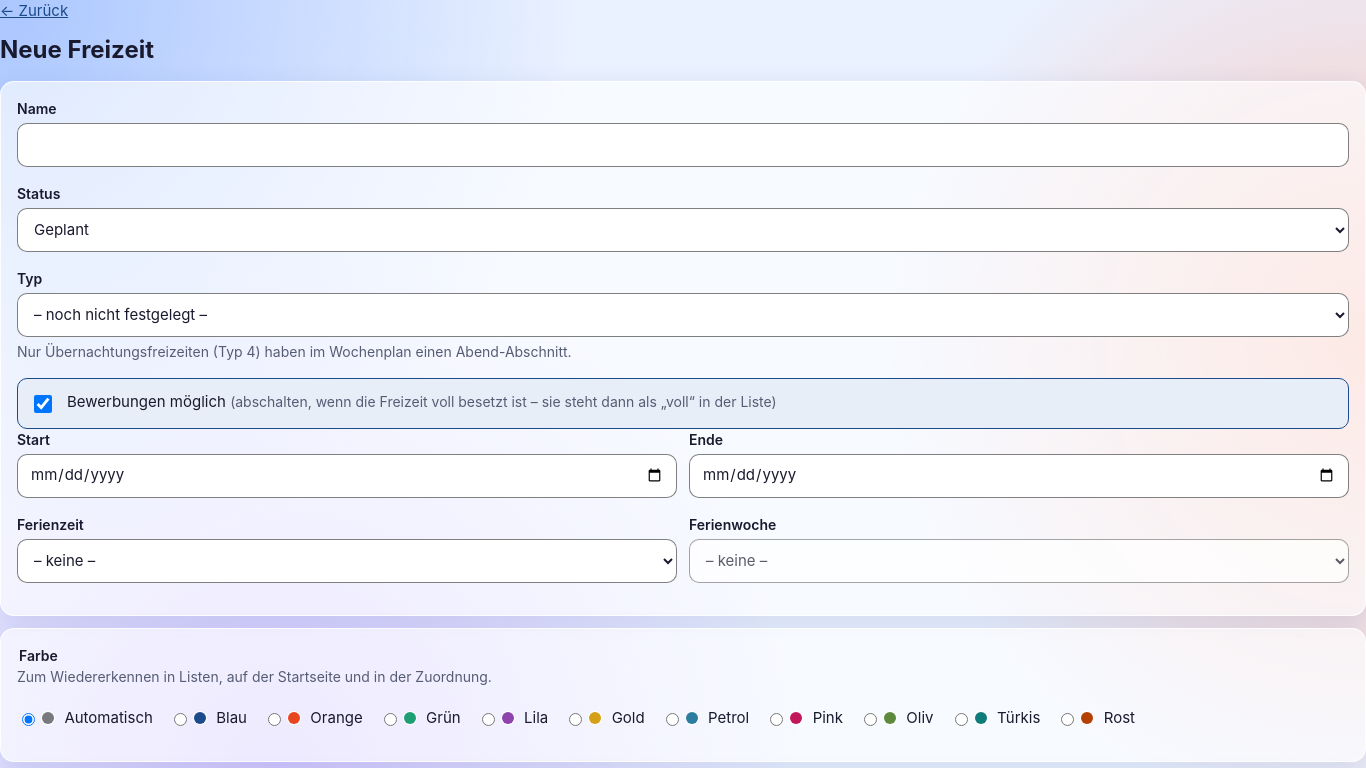
Test: Neue Freizeit › zeigt Serverfehler verständlich
The width and height of the screenshot is (1366, 768).
Type "X" into the field labelled "Name" at (683, 144), box 17,122 -> 1349,166
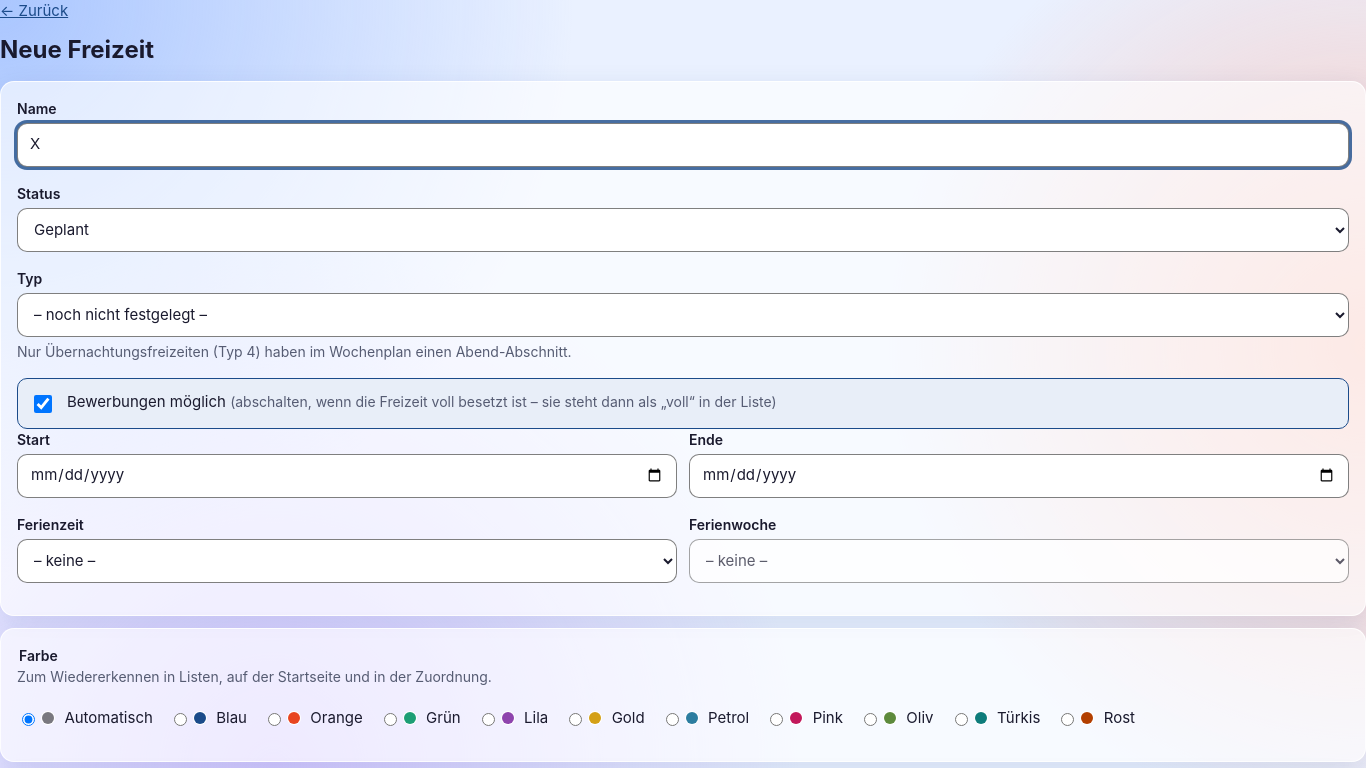
Type "2027-10-11" into the date field labelled "Start" at (347, 476), box 17,454 -> 677,498
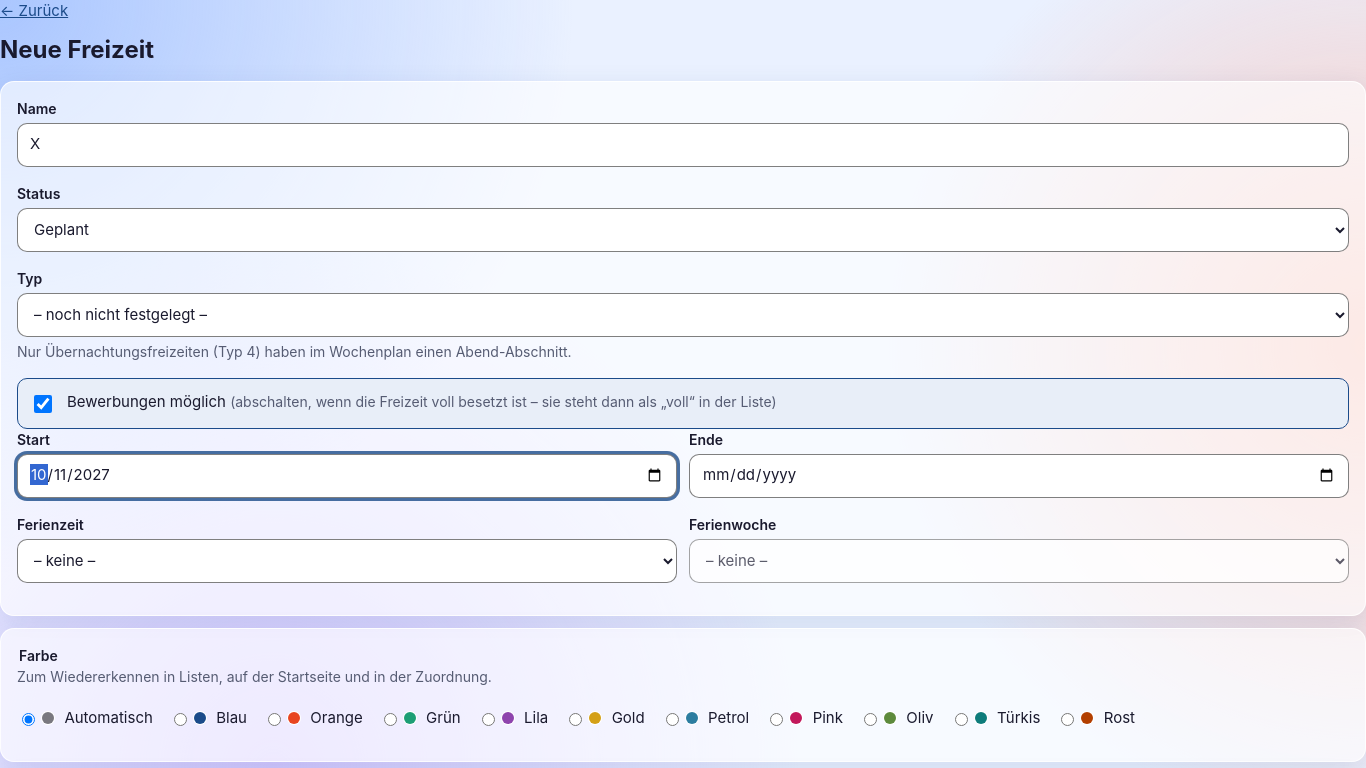
Type "2027-10-15" into the date field labelled "Ende" at (1019, 476), box 689,454 -> 1349,498
(page scrolled)
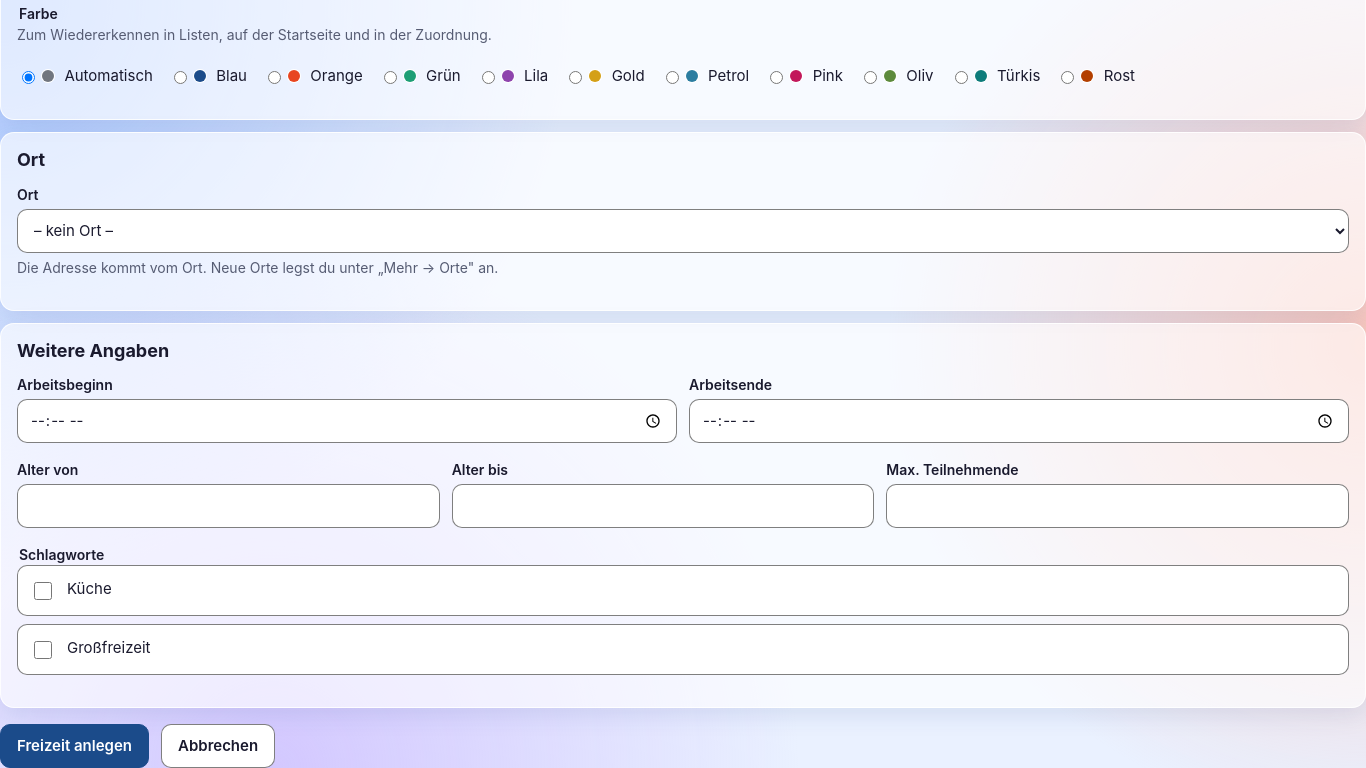
Click the button "Freizeit anlegen" at (74, 746), box 0,724 -> 149,767
(page scrolled)
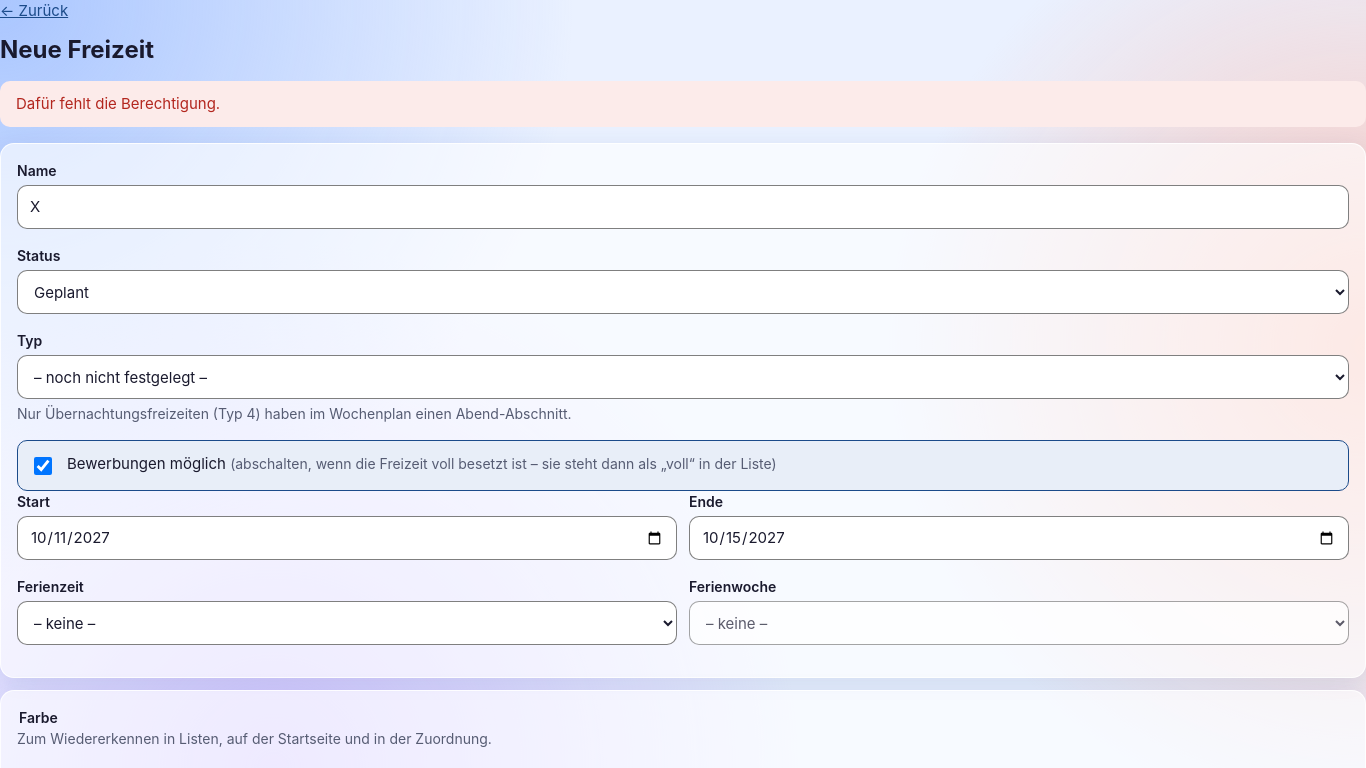
Expected: the message reads "Dafür fehlt die Berechtigung.", 16,94 -> 220,112
